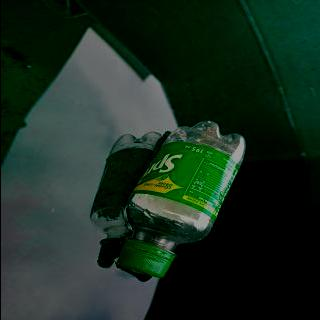bottle: (112, 118, 248, 280)
